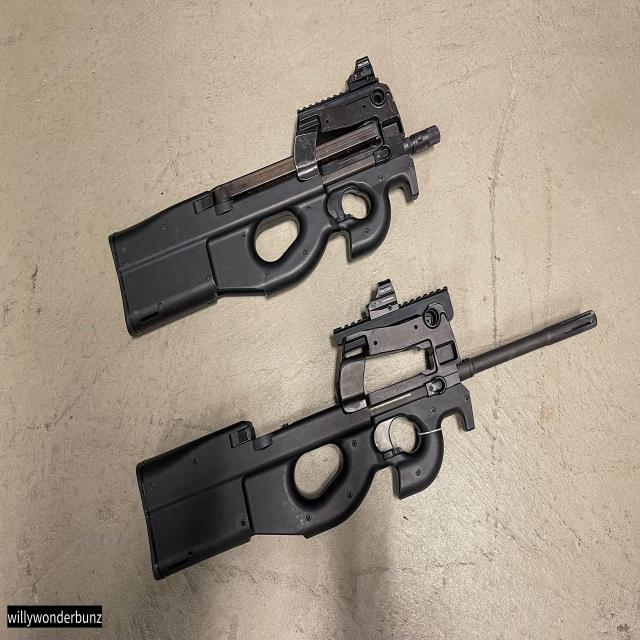Gun: (114, 272, 483, 590), (90, 46, 448, 352)
